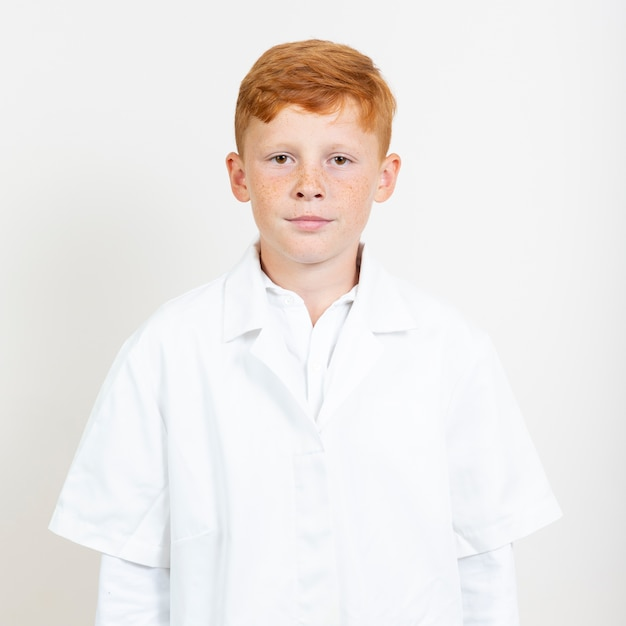teen: (224, 27, 420, 271)
